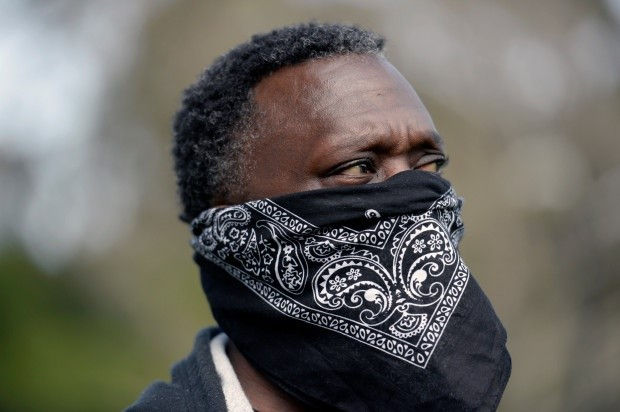face_with_mask: (180, 41, 452, 366)
